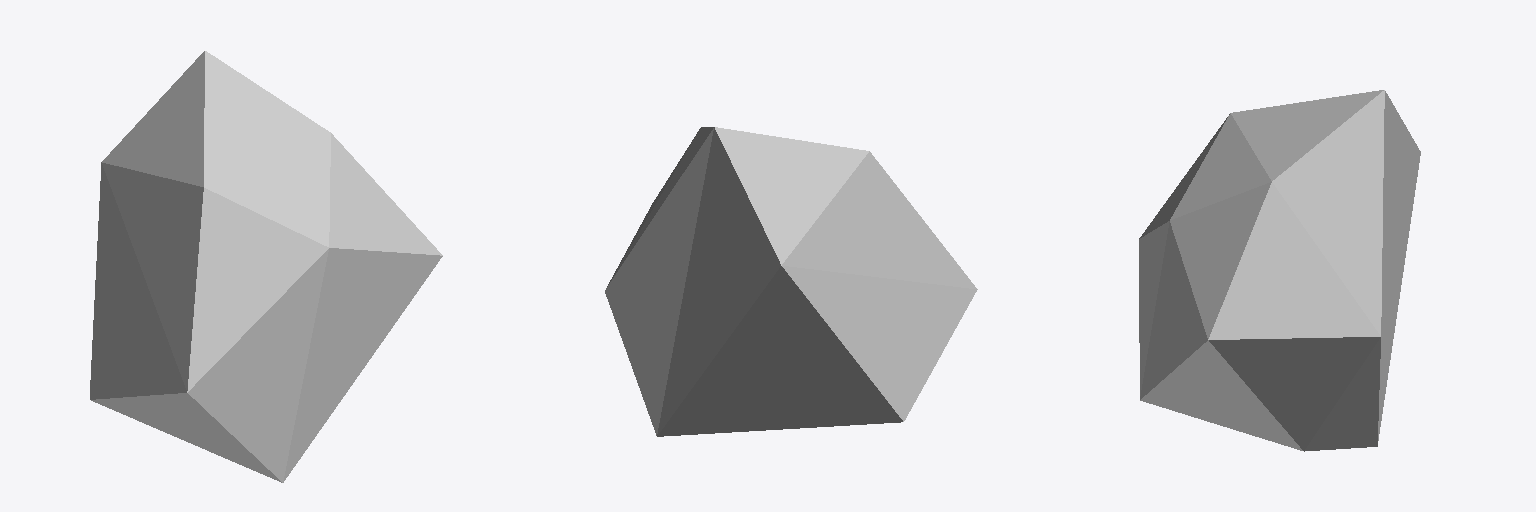
The model's file is fract-map.obj.
The picture shows the model from 3 angles: view 1: azimuth 30°, elevation 25°; view 2: azimuth 150°, elevation 25°; view 3: azimuth 270°, elevation 25°; orthographic projection.
Size of the model in its own units: 57.08 by 60.27 by 46.12.